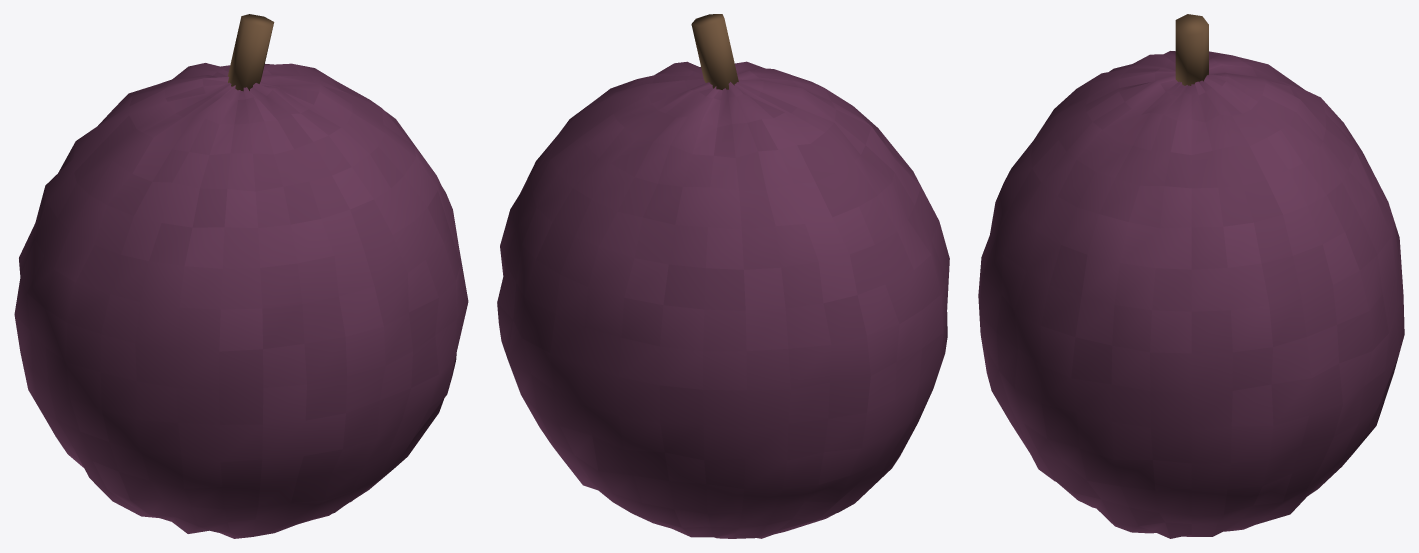
File: Plum.glb
The picture shows the model from 3 angles, left to right: view 1: azimuth 30°, elevation 25°; view 2: azimuth 150°, elevation 25°; view 3: azimuth 270°, elevation 25°; orthographic projection.
Visible parts, largest first — view 1: Plum; view 2: Plum; view 3: Plum.
Part boxes in pixels (x1,y1,x2,y2): Plum: (14, 14, 468, 538); Plum: (497, 14, 949, 538); Plum: (978, 14, 1404, 538).
Size of what is drawn, in the model's own units: 0.0737 by 0.0895 by 0.068.
